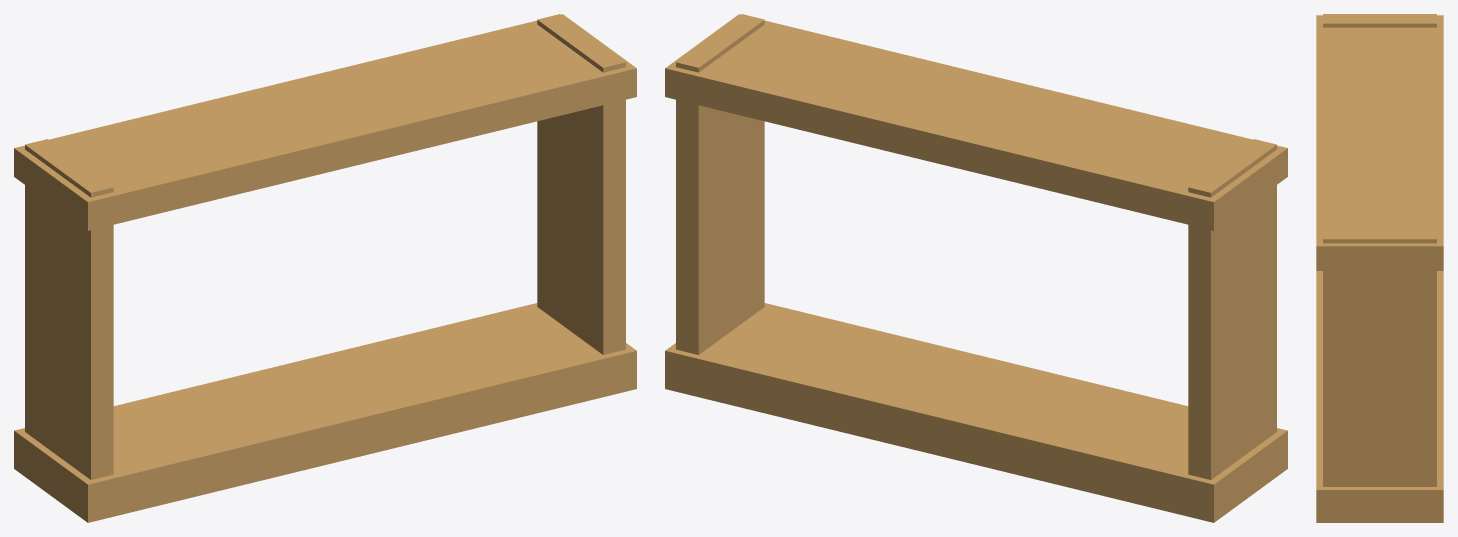
The model's file is shelf-demo.gltf.
3 renders of one model, left to right at view 1: azimuth 30°, elevation 25°; view 2: azimuth 150°, elevation 25°; view 3: azimuth 270°, elevation 25°, orthographic. The views are drawn at different scales.
Visible parts, largest first — view 1: Shelf Demo; view 2: Shelf Demo; view 3: Shelf Demo.
Boxes of the visible parts, bbox=[...] form: Shelf Demo: bbox=[14, 14, 636, 522]; Shelf Demo: bbox=[665, 14, 1287, 522]; Shelf Demo: bbox=[1316, 14, 1443, 522].
Bounding box in the file's own units: 1.2 × 0.68 × 0.28.
